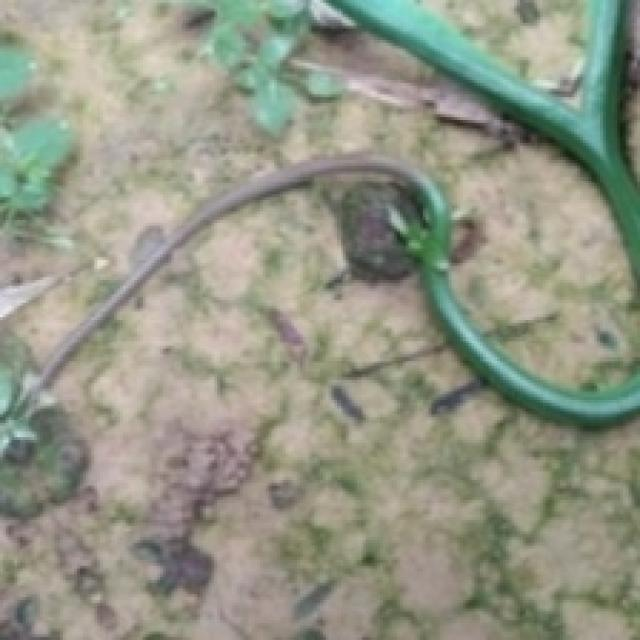red-tailed green ratsnake: (29, 154, 640, 427), (331, 0, 640, 286)
